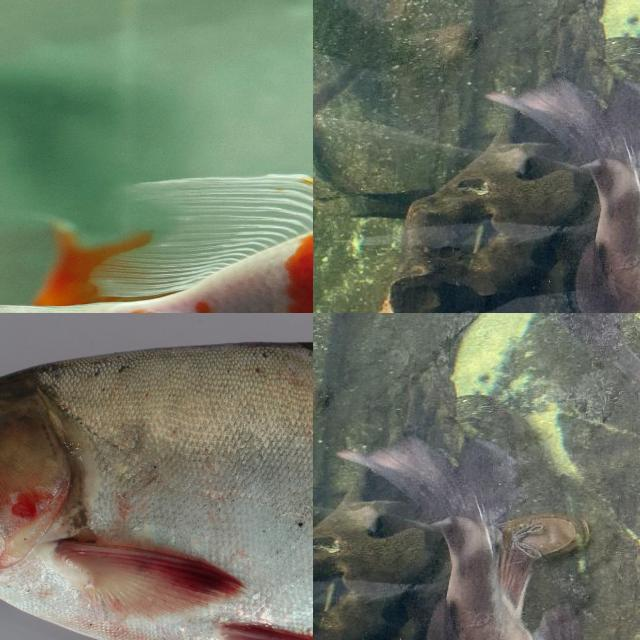fish: (0, 313, 313, 640), (0, 0, 313, 313), (313, 427, 640, 640), (461, 69, 640, 313)
